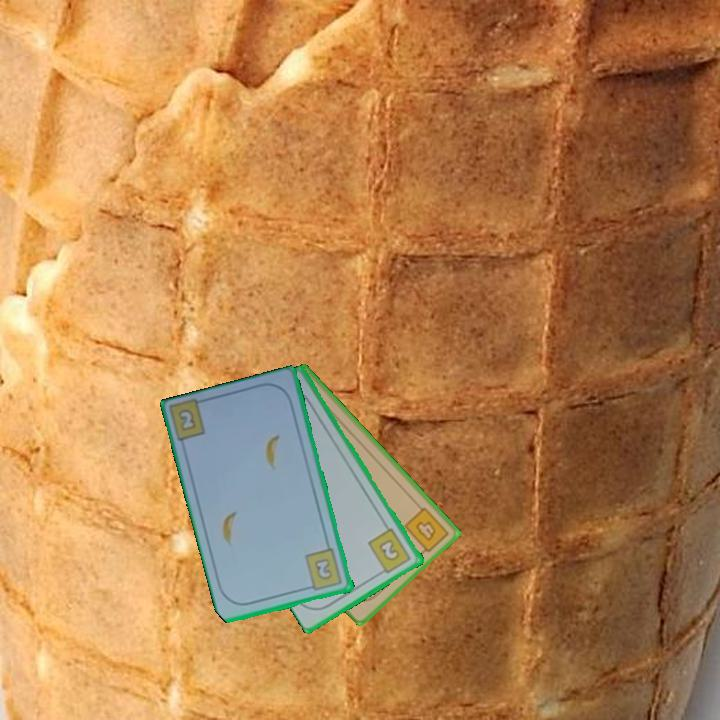2b: (365, 525, 414, 578), (302, 545, 345, 594), (174, 405, 199, 434)
4b: (401, 503, 452, 559)
